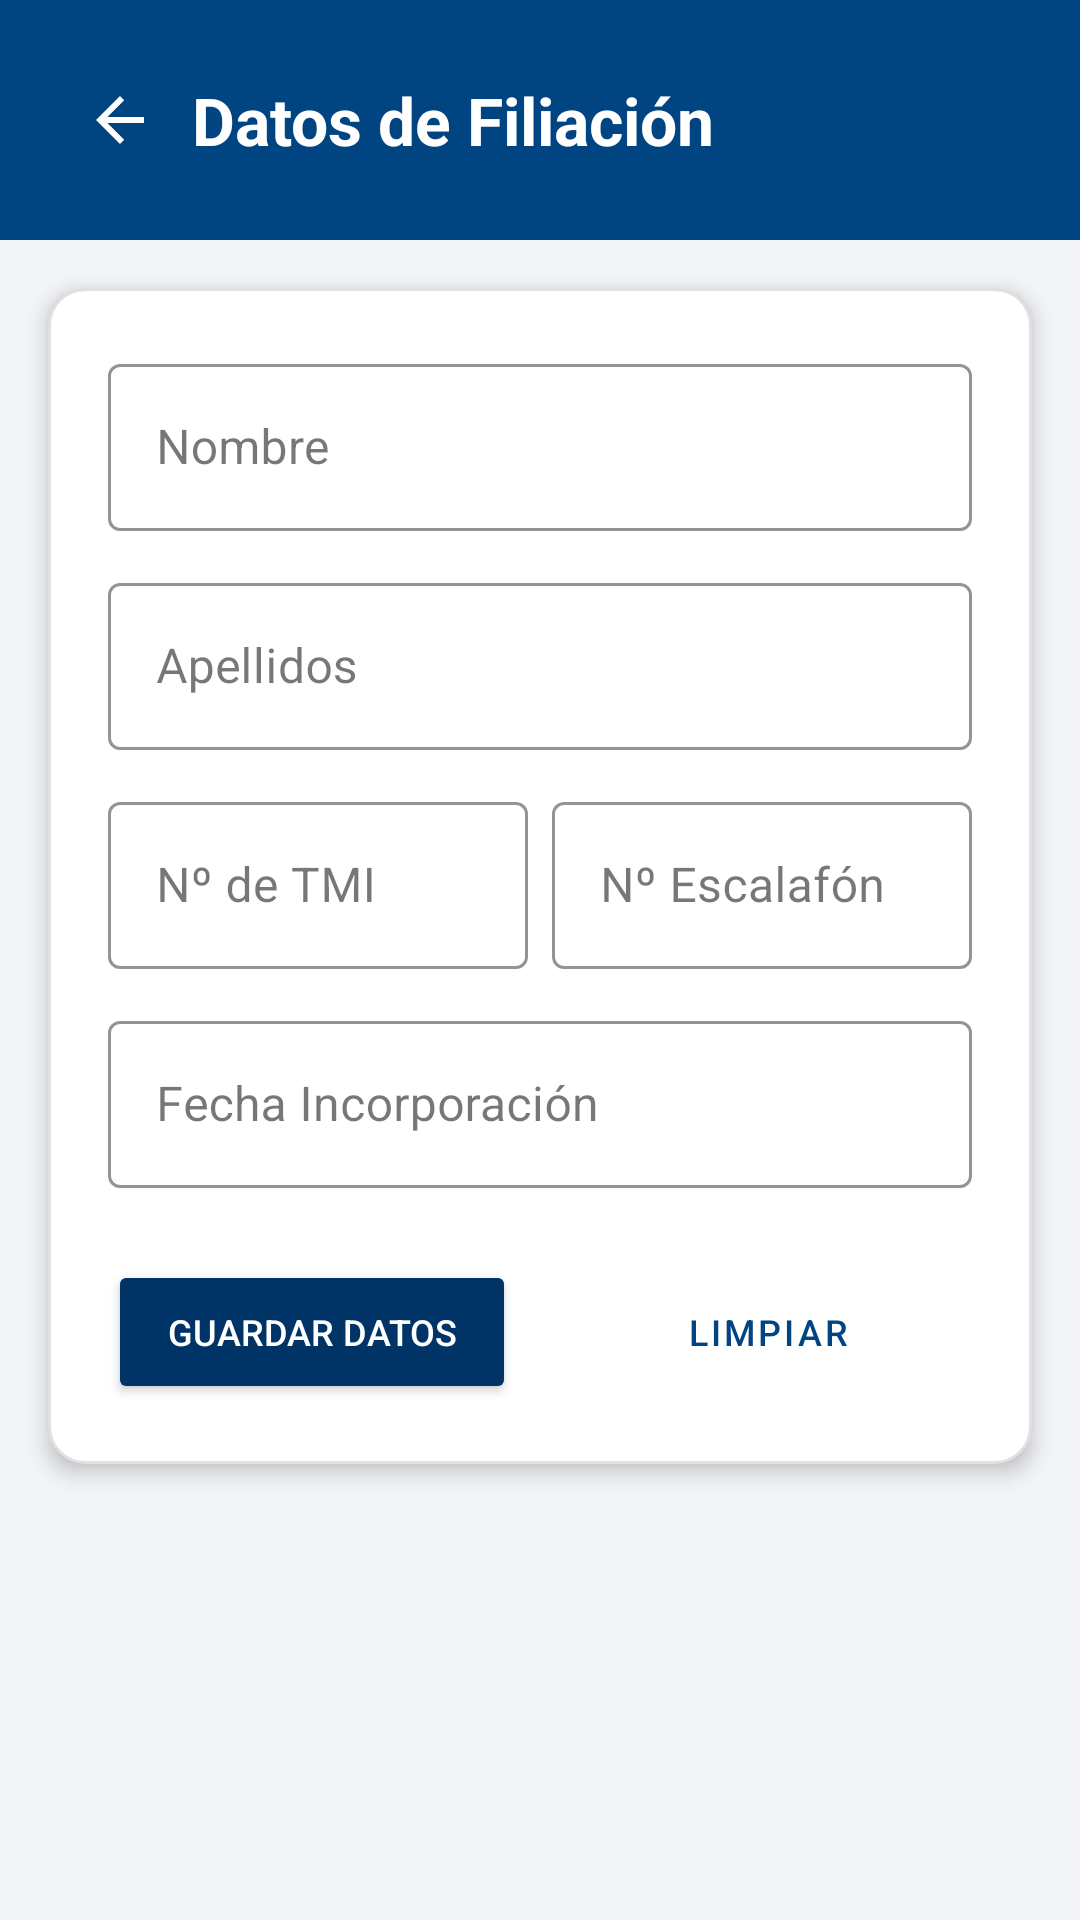

Where to tap for icons on this 1080px×1920px app screen, as [x,y]:
Volver: [120,120]
